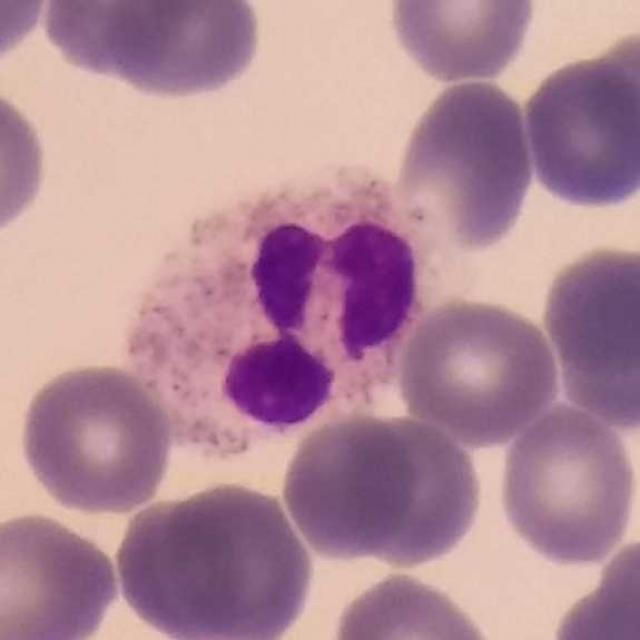Neutrophil: (120, 167, 454, 456)
RBC: (122, 477, 320, 640), (391, 76, 538, 255), (16, 358, 177, 518), (394, 293, 563, 444), (494, 401, 639, 568), (345, 412, 486, 571), (279, 410, 421, 562), (520, 51, 640, 214), (538, 238, 640, 429), (100, 0, 267, 105), (0, 507, 123, 640), (213, 326, 344, 443), (35, 0, 200, 82), (383, 0, 540, 85), (327, 567, 500, 640), (579, 27, 640, 174), (0, 81, 53, 244), (548, 551, 640, 639), (594, 534, 640, 640), (0, 0, 56, 68)
